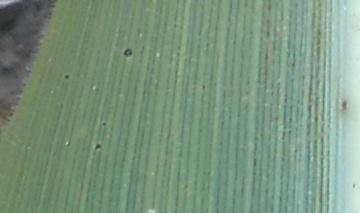tarspot: (340, 98, 348, 113), (123, 47, 132, 58), (93, 142, 102, 152), (62, 72, 71, 81), (100, 121, 108, 128), (201, 83, 207, 91), (351, 181, 356, 190)
